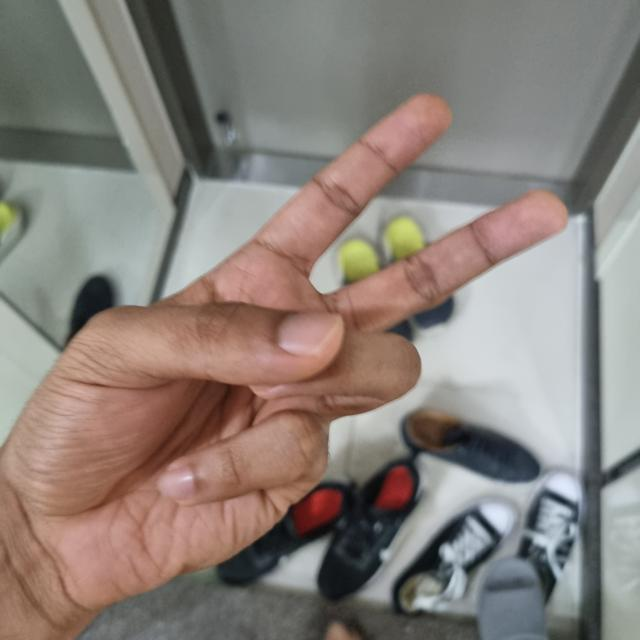Scissors: (1, 98, 576, 637)
